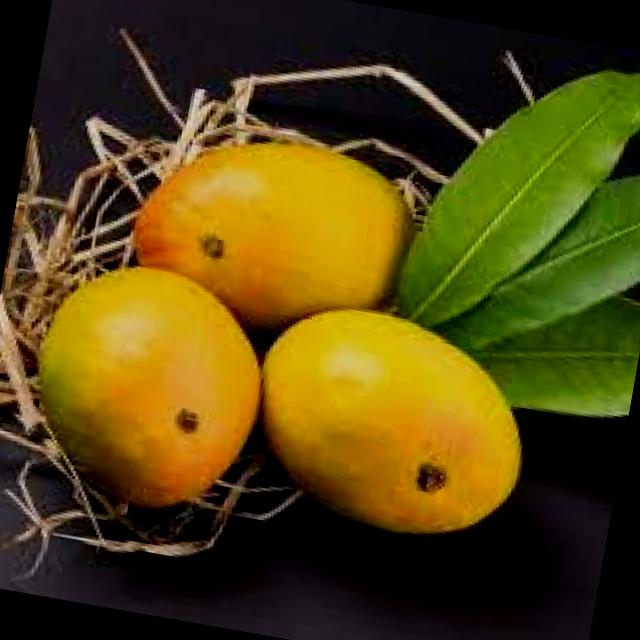Mango: (238, 290, 547, 552), (120, 113, 428, 357), (18, 249, 283, 525)
